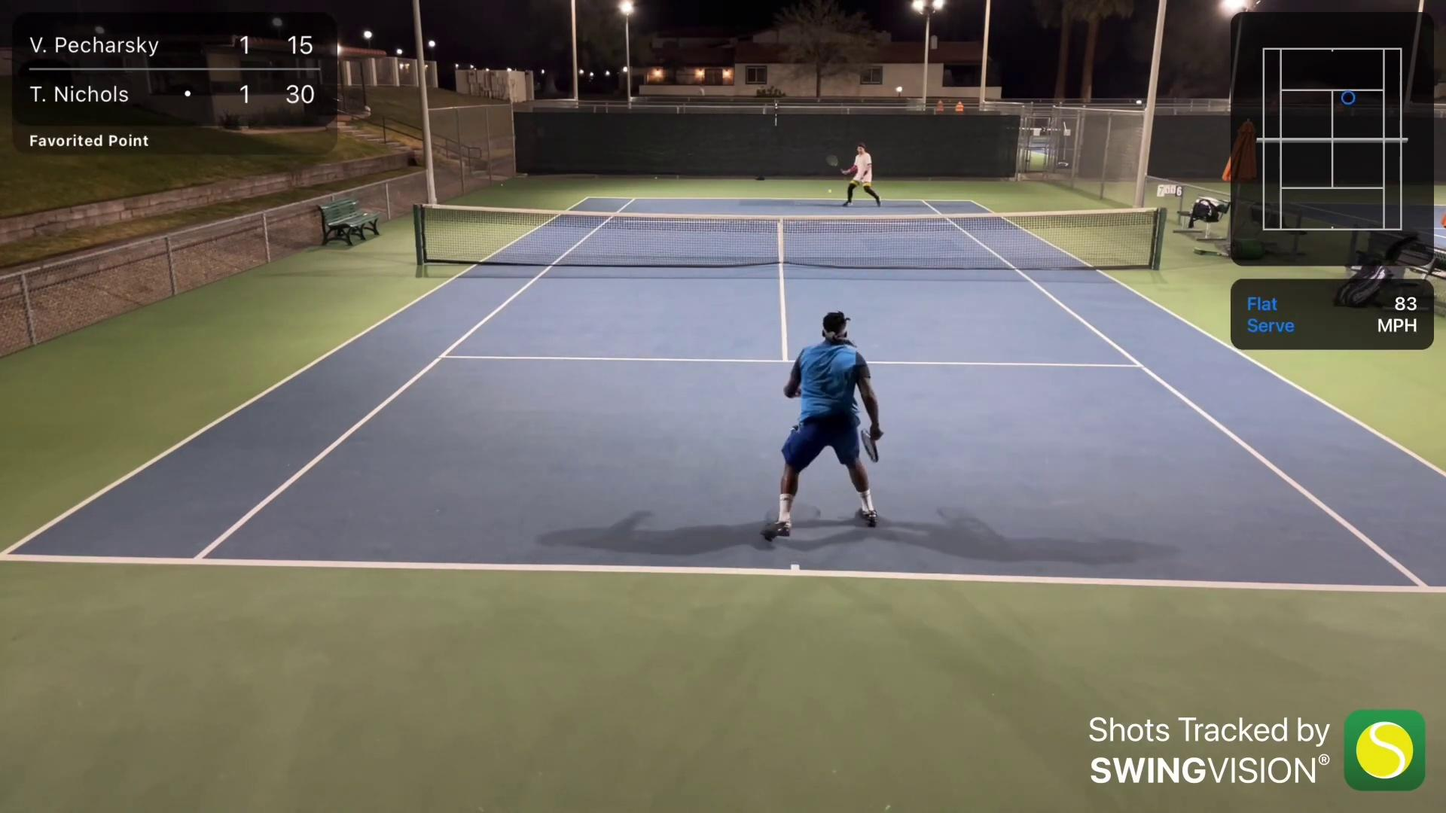ball: (826, 188, 833, 193)
